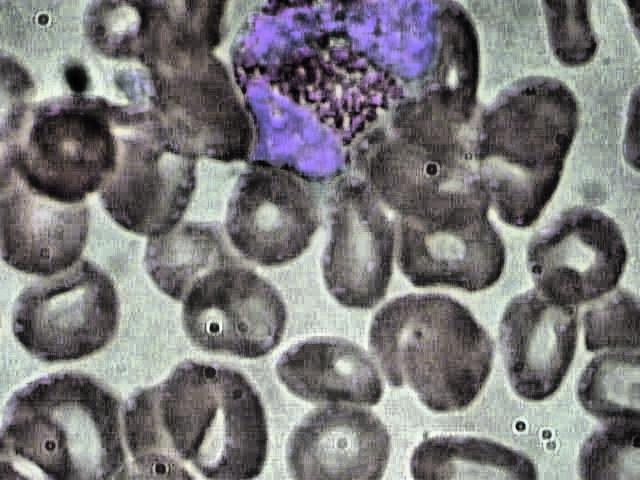Platelets: (105, 62, 154, 102)
RBC: (467, 69, 590, 174), (7, 256, 124, 363), (4, 102, 121, 209), (175, 257, 293, 361), (181, 354, 277, 480), (308, 176, 396, 313), (500, 266, 584, 406), (396, 307, 503, 414), (220, 162, 327, 269), (386, 207, 510, 293), (520, 209, 632, 298), (274, 328, 383, 411), (277, 407, 396, 480), (145, 215, 233, 298), (76, 1, 164, 66)
WBC: (227, 1, 447, 186)
